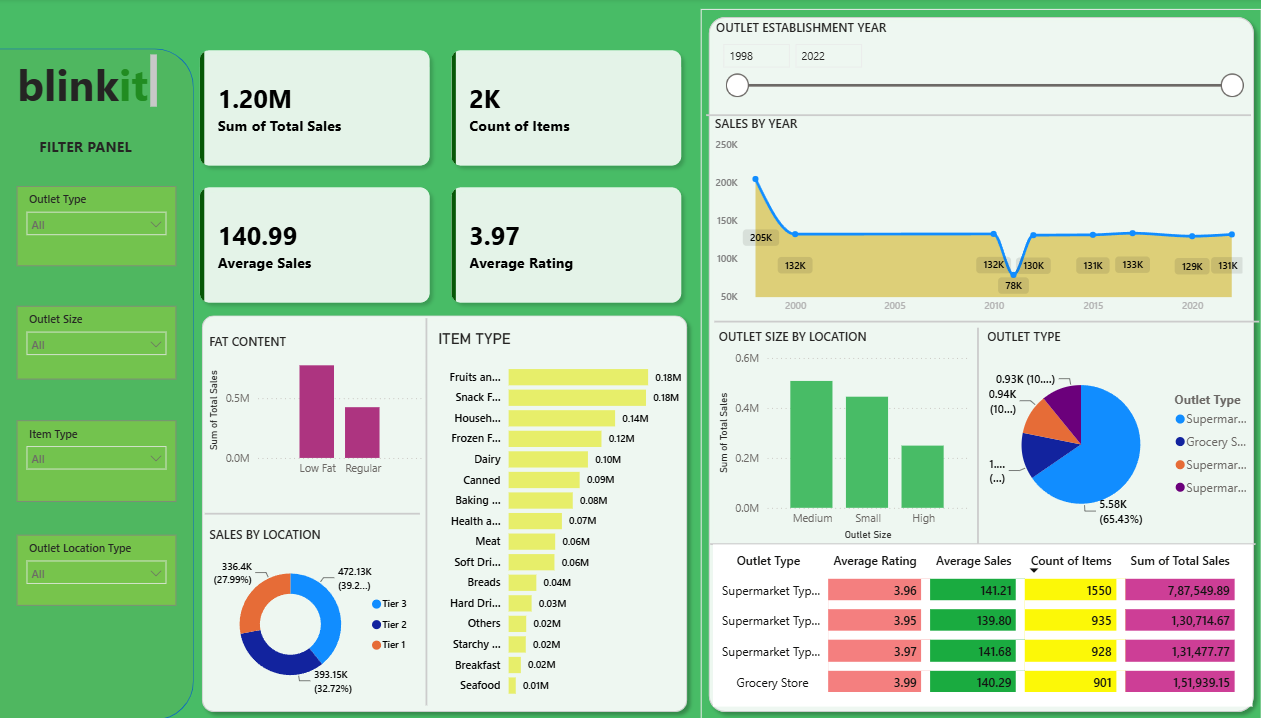

Layout of this report page (visuals, bound fields, positions):
{"tool":"powerbi","page":{"name":"Page 1","canvas":[1400,800],"ordinal":0},"visuals":[{"type":"shape","box":[0,55.9,216,744.7],"z":0},{"type":"textbox","box":[12.1,57.4,167.7,71],"z":1000},{"type":"cardVisual","fields":{"Data":["Sum(public Blinkit Sales.Total Sales)","public Blinkit Sales.Count of Items","public Blinkit Sales.Average Sales","public Blinkit Sales.Average Rating"]},"box":[205.4,40.8,569.4,314.2],"z":2000},{"type":"shape","box":[216,342.9,555.8,457.7],"z":3000},{"type":"lineStackedColumnComboChart","title":"FAT CONTENT","fields":{"Category":["public Blinkit Sales.Item Fat Content"],"Y":["Sum(public Blinkit Sales.Total Sales)"]},"box":[228.1,371.6,246.2,169.2],"z":4000},{"type":"donutChart","title":"SALES BY LOCATION","fields":{"Category":["public Blinkit Sales.Outlet Location Type"],"Y":["Sum(public Blinkit Sales.Total Sales)"]},"box":[228.1,584.5,238.7,200.9],"z":5000},{"type":"shape","box":[228.1,558.9,238.7,25.7],"z":6000},{"type":"shape","box":[467.1,355.1,14.2,429.2],"z":7000},{"type":"clusteredBarChart","title":"ITEM TYPE","fields":{"Y":["Sum(public Blinkit Sales.Total Sales)"],"Category":["public Blinkit Sales.Item Type"]},"box":[481.8,368.6,279.4,416.9],"z":8000},{"type":"shape","box":[777.9,12.1,622.3,788.5],"z":9000},{"type":"shape","box":[792.9,345.7,604.3,25.7],"z":10000},{"type":"columnChart","title":"OUTLET SIZE BY LOCATION","fields":{"Y":["Sum(public Blinkit Sales.Total Sales)"],"Category":["public Blinkit Sales.Outlet Size"]},"box":[792.7,365.5,286.4,240],"z":11000},{"type":"shape","box":[1074.5,365.5,22.7,240],"z":12000},{"type":"pieChart","title":"OUTLET TYPE","fields":{"Category":["public Blinkit Sales.Outlet Type"],"Y":["CountNonNull(public Blinkit Sales.Outlet Type)"]},"box":[1090.6,365.5,306.6,240.2],"z":13000},{"type":"shape","box":[783.9,117.8,604.2,24.2],"z":14000},{"type":"textbox","box":[39.3,148,113.3,40.8],"z":15000},{"type":"slicer","fields":{"Values":["public Blinkit Sales.Outlet Location Type"]},"box":[19.6,595.1,176.7,78.5],"z":16000},{"type":"slicer","fields":{"Values":["public Blinkit Sales.Outlet Size"]},"box":[19.6,341.4,176.7,81.6],"z":17000},{"type":"slicer","fields":{"Values":["public Blinkit Sales.Outlet Type"]},"box":[19.6,208.4,176.7,89.1],"z":18000},{"type":"slicer","fields":{"Values":["public Blinkit Sales.Item Type"]},"box":[19.6,468.2,176.7,90.6],"z":19000},{"type":"slicer","title":" OUTLET ESTABLISHMENT YEAR","fields":{"Values":["public Blinkit Sales.Outlet Establishment Year"]},"box":[790,22.7,598.1,105.7],"z":20000},{"type":"stackedAreaChart","title":"SALES BY YEAR","fields":{"Category":["public Blinkit Sales.Outlet Establishment Year"],"Y":["Sum(public Blinkit Sales.Total Sales)"]},"box":[788.5,129.9,595.1,229.6],"z":21000},{"type":"shape","box":[788.2,593.6,604.5,23.6],"z":22000},{"type":"pivotTable","title":"OUTLET TYPE","fields":{"Rows":["public Blinkit Sales.Outlet Type"],"Values":["public Blinkit Sales.Average Rating","public Blinkit Sales.Average Sales","public Blinkit Sales.Count of Items","Sum(public Blinkit Sales.Total Sales)"]},"box":[791.5,605.7,598.1,179.7],"z":23000}]}

Visuals, with their boxes in screenshot pixels (x1, y1, x2, y2), scaled from the page's 1400x800 canvas onto the 1261x718 screenshot:
shape: rect(0, 50, 195, 717)
textbox: rect(11, 52, 162, 115)
cardVisual - Sum(public Blinkit Sales.Total Sales) x public Blinkit Sales.Count of Items: rect(185, 37, 698, 319)
shape: rect(195, 308, 695, 717)
"FAT CONTENT" lineStackedColumnComboChart: rect(205, 334, 427, 485)
"SALES BY LOCATION" donutChart: rect(205, 525, 420, 705)
shape: rect(205, 502, 420, 525)
shape: rect(421, 319, 434, 704)
"ITEM TYPE" clusteredBarChart: rect(434, 331, 686, 705)
shape: rect(701, 11, 1260, 717)
shape: rect(714, 310, 1258, 333)
"OUTLET SIZE BY LOCATION" columnChart: rect(714, 328, 972, 543)
shape: rect(968, 328, 988, 543)
"OUTLET TYPE" pieChart: rect(982, 328, 1258, 544)
shape: rect(706, 106, 1250, 127)
textbox: rect(35, 133, 137, 169)
slicer - public Blinkit Sales.Outlet Location Type: rect(18, 534, 177, 605)
slicer - public Blinkit Sales.Outlet Size: rect(18, 306, 177, 380)
slicer - public Blinkit Sales.Outlet Type: rect(18, 187, 177, 267)
slicer - public Blinkit Sales.Item Type: rect(18, 420, 177, 502)
" OUTLET ESTABLISHMENT YEAR" slicer: rect(712, 20, 1250, 115)
"SALES BY YEAR" stackedAreaChart: rect(710, 117, 1246, 323)
shape: rect(710, 533, 1254, 554)
"OUTLET TYPE" pivotTable: rect(713, 544, 1252, 705)
